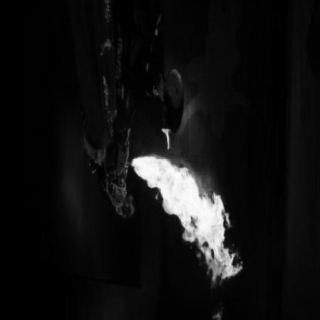Fire: (121, 161, 252, 273)
